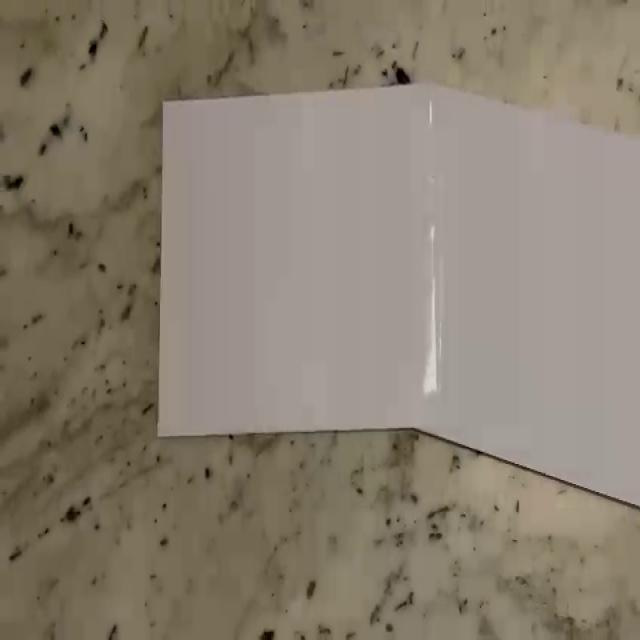road: (156, 84, 640, 507)
